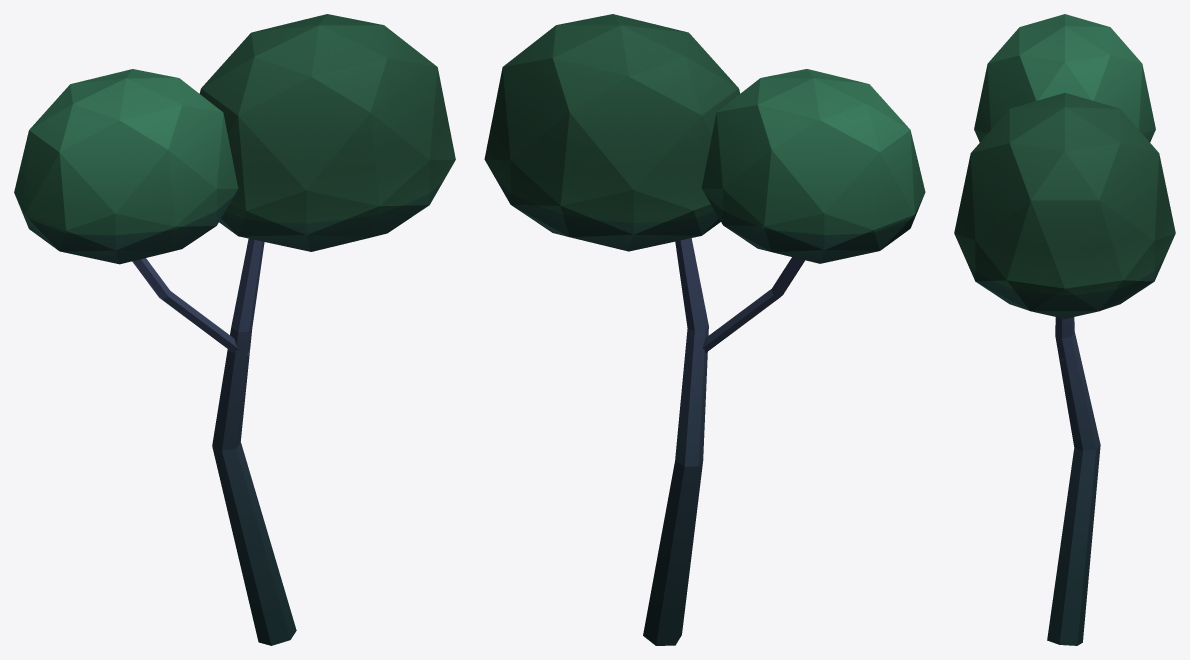
Rendered from treeRoundTop03.glb.
3 views of the same model, side by side, from view 1: azimuth 30°, elevation 25°; view 2: azimuth 150°, elevation 25°; view 3: azimuth 270°, elevation 25° (orthographic). The views are drawn at different scales.
Visible parts, largest first — view 1: geometry_0; view 2: geometry_0; view 3: geometry_0.
Boxes of the visible parts, x1=… form: geometry_0: x1=14, y1=14, x2=455, y2=645; geometry_0: x1=484, y1=14, x2=925, y2=645; geometry_0: x1=954, y1=14, x2=1175, y2=645.
Bounding box in the file's own units: 0.7223 × 1 × 0.3609.
Materials: 1 (1 with a texture image).
